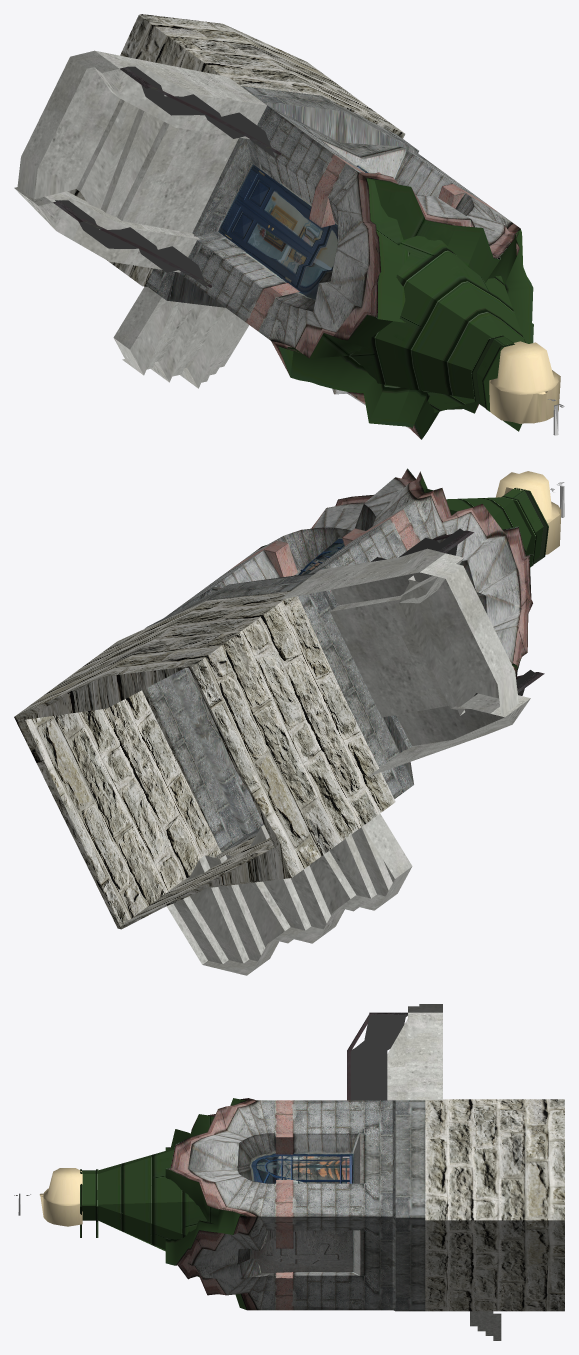
File: Pikk_32-origo.obj
The picture shows the model from 3 angles, top to bottom: view 1: azimuth 30°, elevation 25°; view 2: azimuth 150°, elevation 25°; view 3: azimuth 270°, elevation 25°; orthographic projection. The views are drawn at different scales.
Visible parts, largest first — view 1: Pikk_32; view 2: Pikk_32; view 3: Pikk_32.
Part boxes in pixels (box(x1,y1,x2,y2)): Pikk_32: box(14, 14, 564, 439); Pikk_32: box(14, 468, 564, 975); Pikk_32: box(14, 1004, 564, 1340).
Size of the model in its own units: 6.75 by 6.5 by 11.97.
